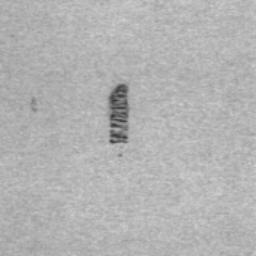Secondary rust skin: (108, 84, 129, 144)
